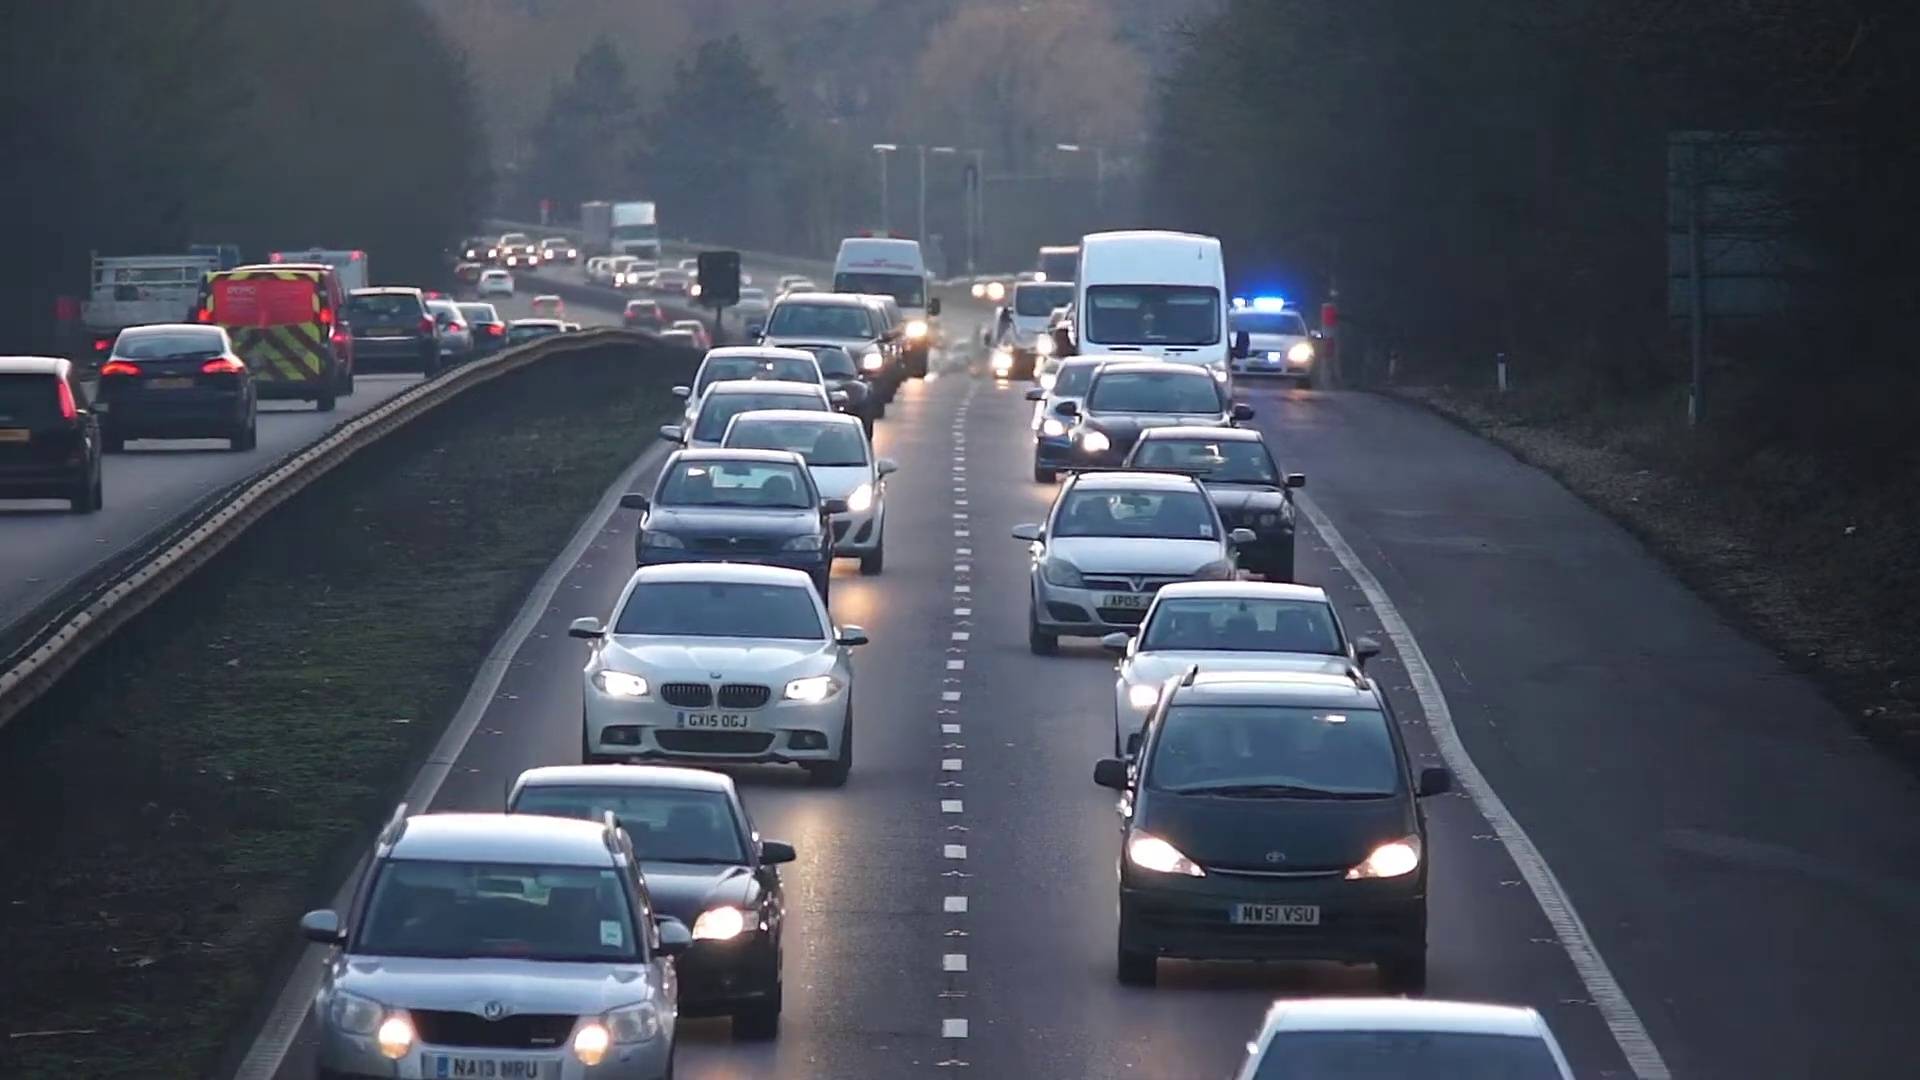license_plate: (439, 1056, 556, 1080), (1234, 901, 1322, 930), (680, 710, 750, 734), (1102, 591, 1151, 609)
